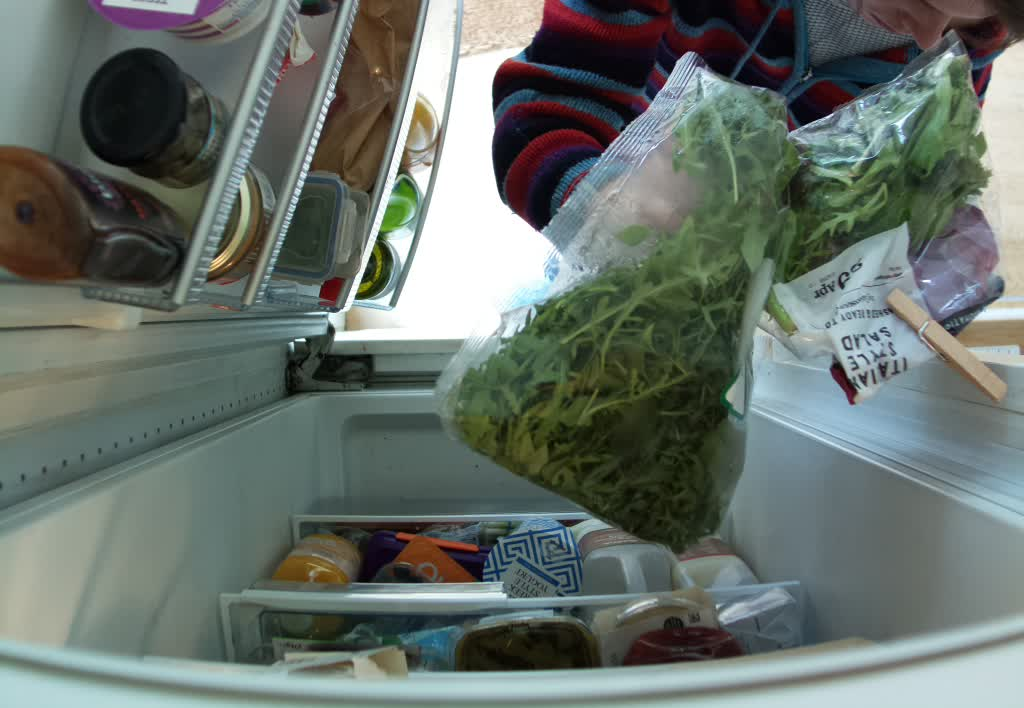salad: (440, 73, 798, 559), (768, 31, 1008, 317)
